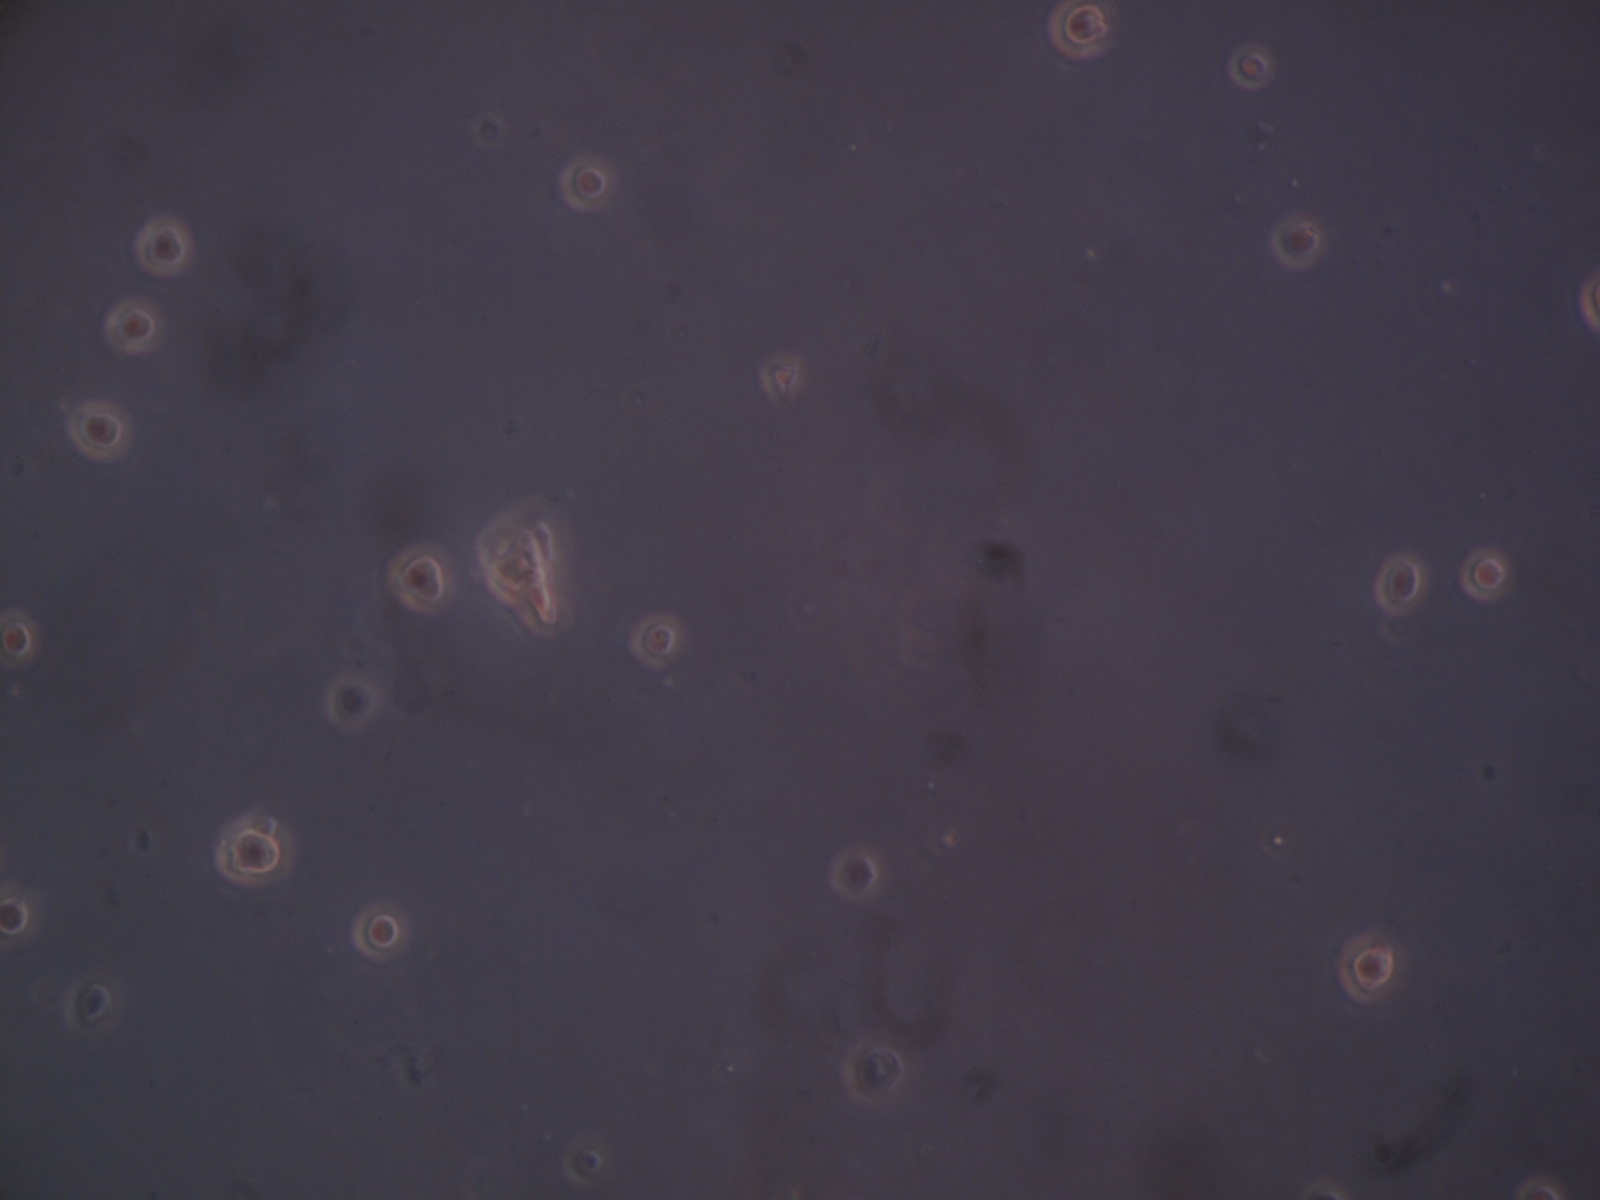hemo: (217, 811, 294, 890), (386, 542, 457, 615), (1337, 932, 1406, 1005), (842, 1039, 905, 1107), (134, 214, 197, 282), (63, 971, 129, 1034), (68, 400, 134, 463), (1047, 1, 1114, 61), (351, 903, 414, 962), (102, 300, 168, 355), (1374, 552, 1429, 618), (1267, 213, 1327, 272), (829, 845, 887, 905), (556, 155, 619, 211), (1458, 546, 1514, 605), (627, 610, 684, 669), (324, 672, 379, 732), (1, 875, 44, 950), (758, 348, 805, 408), (559, 1134, 611, 1184), (1227, 42, 1275, 92), (1, 606, 42, 666), (1579, 271, 1600, 335)
